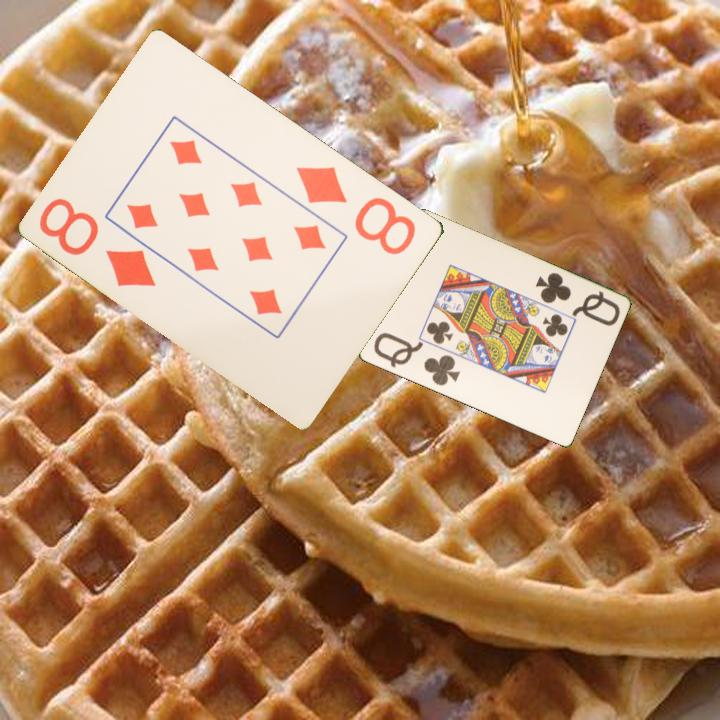8d: (292, 162, 420, 258), (36, 194, 160, 290)
Qc: (370, 329, 463, 389), (531, 269, 623, 329)
